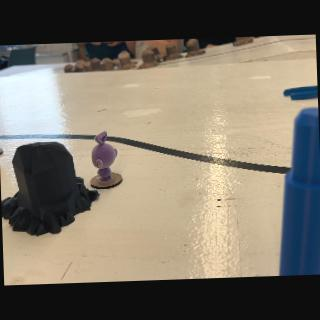teletubby: (92, 131, 117, 183)
